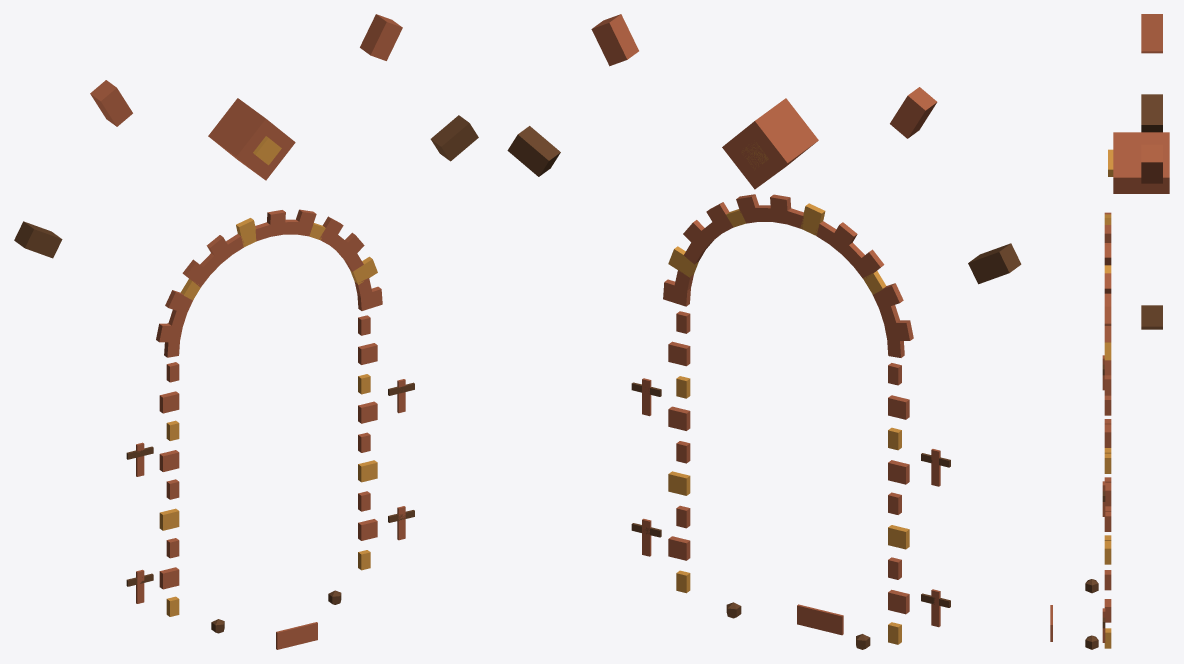
File: realm_glow_amber.glb
3 views of the same model, side by side, from view 1: azimuth 30°, elevation 25°; view 2: azimuth 150°, elevation 25°; view 3: azimuth 270°, elevation 25° (orthographic). The views are drawn at different scales.
Visible parts, largest first — view 1: realm_glow_amber; view 2: realm_glow_amber; view 3: realm_glow_amber.
Boxes of the visible parts, x1,y1,x2,y2 form: realm_glow_amber: (14,14,478,649); realm_glow_amber: (507,14,1021,649); realm_glow_amber: (1050,14,1169,649).
Bounding box in the file's own units: 3.89 × 4.56 × 0.89.
